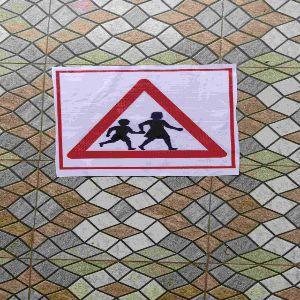schools: (58, 75, 236, 168)
